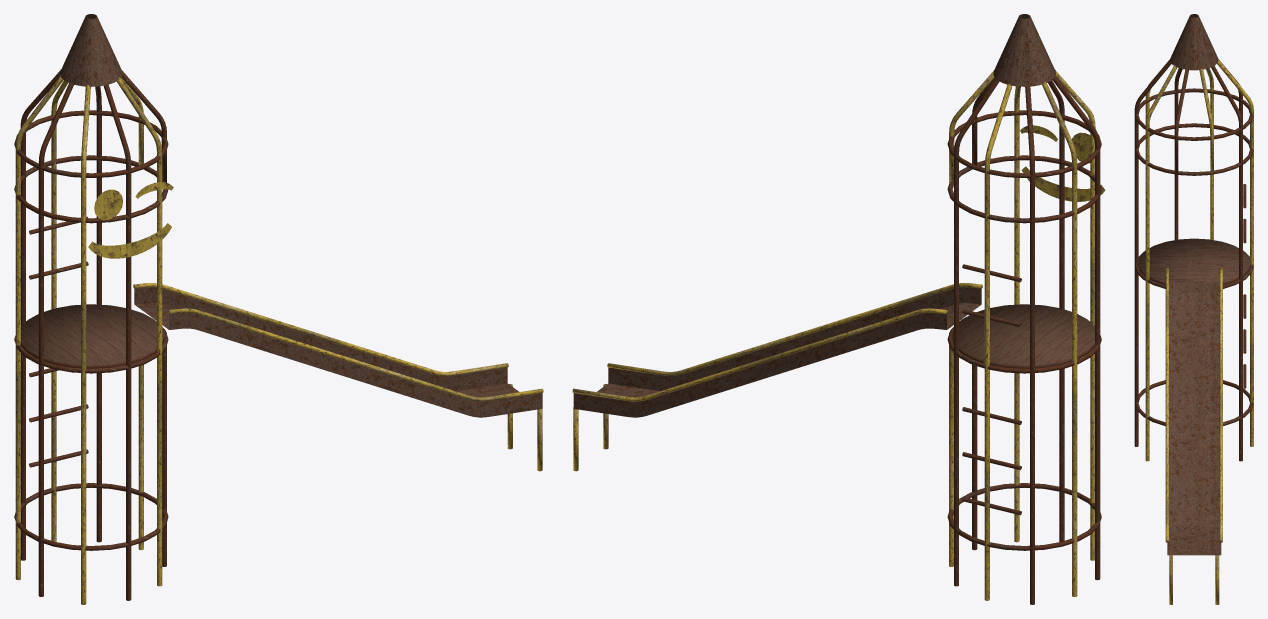
File: playground_rocket_slide_web.glb
The picture shows the model from 3 angles, left to right: view 1: azimuth 30°, elevation 25°; view 2: azimuth 150°, elevation 25°; view 3: azimuth 270°, elevation 25°; orthographic projection. The views are drawn at different scales.
Visible parts, largest first — view 1: RocketSlide_Mesh; view 2: RocketSlide_Mesh; view 3: RocketSlide_Mesh.
Boxes of the visible parts, x1=… form: RocketSlide_Mesh: x1=14, y1=14, x2=543, y2=604; RocketSlide_Mesh: x1=572, y1=14, x2=1105, y2=604; RocketSlide_Mesh: x1=1134, y1=14, x2=1253, y2=604.
Bounding box in the file's own units: 3.5 × 3.7 × 0.9352.
4 materials, 4 textured.
